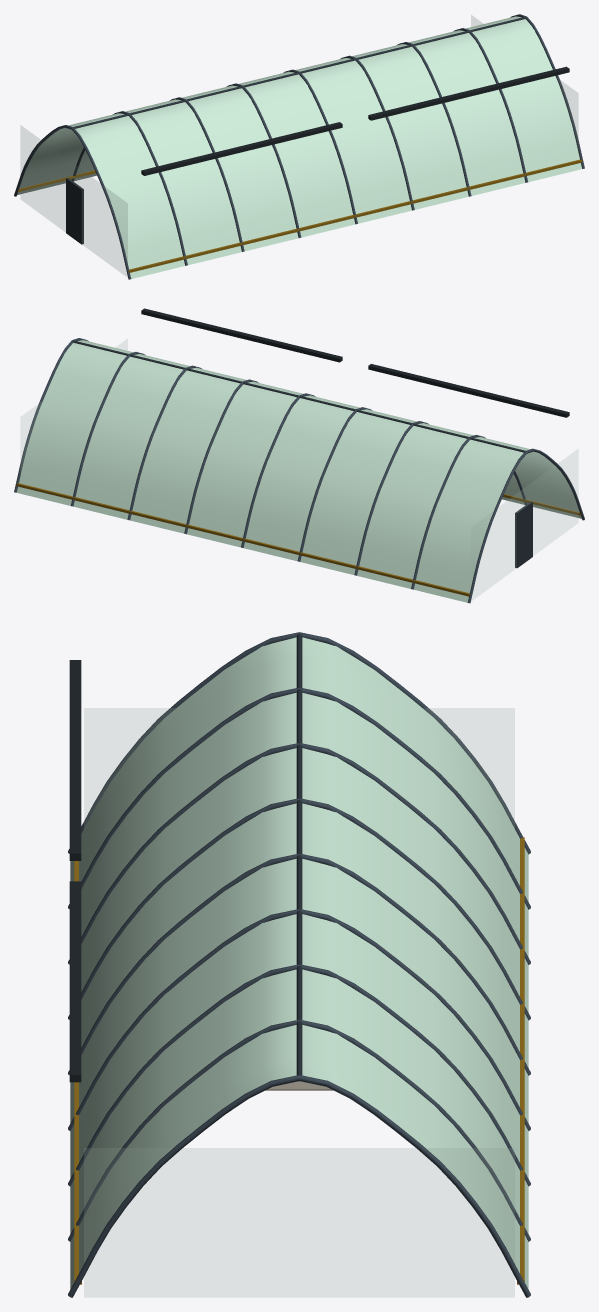
Rendered from tunnel-shell.glb.
The picture shows the model from 3 angles, top to bottom: view 1: azimuth 30°, elevation 25°; view 2: azimuth 150°, elevation 25°; view 3: azimuth 270°, elevation 25°; orthographic projection. The views are drawn at different scales.
Parts seen in each view (by area): view 1: cover, end-west, gutter-n, shade-roller-a, shade-roller-b, ridge, door-west, arch-0, arch-1, end-east, arch-3, arch-7 (+5 smaller); view 2: cover, end-west, gutter-s, shade-roller-a, shade-roller-b, ridge, door-west, arch-0, arch-1, end-east, arch-3, arch-7 (+5 smaller); view 3: cover, end-east, end-west, arch-8, ridge, arch-6, arch-5, arch-7, arch-0, arch-3, arch-1, arch-4 (+5 smaller).
Part boxes in pixels (x1,y1,x2,y2): cover: (17,16,581,278); end-west: (21,126,127,277); gutter-n: (128,159,582,272); shade-roller-a: (141,122,342,175); shade-roller-b: (368,66,569,120); ridge: (73,16,525,128); door-west: (66,178,83,244); arch-0: (14,125,131,279); arch-1: (71,111,187,265); end-east: (471,15,577,146); arch-3: (226,83,301,237); arch-7: (453,28,527,182); cover: (16,340,581,602); end-west: (471,449,577,600); gutter-s: (16,483,470,596); shade-roller-a: (368,364,569,417); shade-roller-b: (141,308,342,362); ridge: (73,340,525,452); door-west: (515,501,532,568); arch-0: (467,448,584,603); arch-1: (411,435,527,589); end-east: (21,339,127,470); arch-3: (297,407,372,561); arch-7: (70,352,145,506); cover: (70,637,528,1288); end-east: (84,1148,514,1296); end-west: (84,708,514,827); arch-8: (68,1075,530,1297); ridge: (296,633,302,1075); arch-6: (68,964,530,1186); arch-5: (68,909,530,1130); arch-7: (68,1019,530,1241); arch-0: (68,632,530,854); arch-3: (68,798,530,1020); arch-1: (68,687,530,909); arch-4: (68,853,530,1075).
Bounding box in the file's own units: 16.1 × 3.77 × 7.07.
